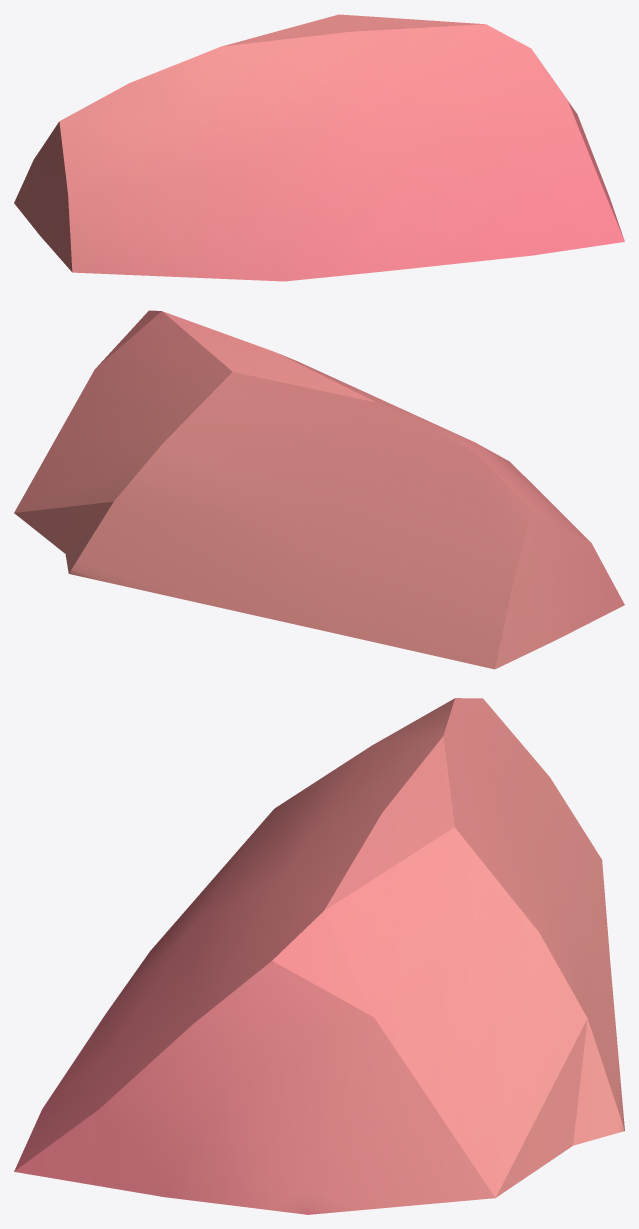
Rendered from Sunset_Stone_004.FBX.
3 views of the same model, one above another, from view 1: azimuth 30°, elevation 25°; view 2: azimuth 150°, elevation 25°; view 3: azimuth 270°, elevation 25° (orthographic). The views are drawn at different scales.
Parts seen in each view (by area): view 1: Sunset_Stone_004; view 2: Sunset_Stone_004; view 3: Sunset_Stone_004.
Boxes of the visible parts, box(x1,y1,x2,y2) form: Sunset_Stone_004: box(14, 14, 624, 281); Sunset_Stone_004: box(14, 310, 624, 669); Sunset_Stone_004: box(14, 698, 624, 1214).
Bounding box in the file's own units: 230 × 69.74 × 158.
Materials: 1 (1 with a texture image).
